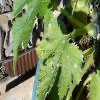Squash Powdery mildew leaf: (37, 18, 85, 99)
